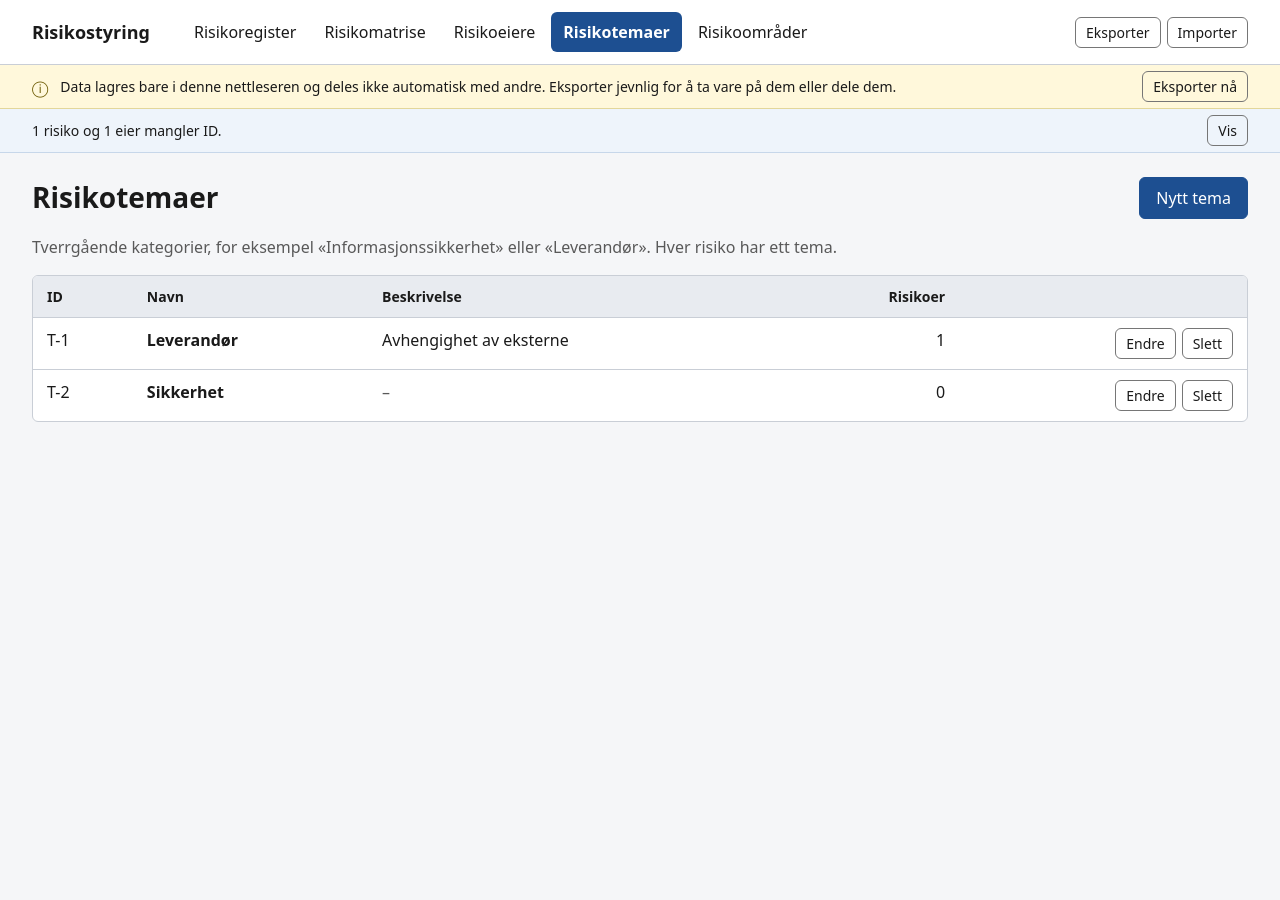
Risikotemaer › endrer element
The image size is (1280, 900).
Expected: the heading "Risikotemaer" is shown, [32,181,218,215]
Step 1. Click the button with aria-label "Endre Sikkerhet" → (1145, 396), box [1115,380,1176,411]
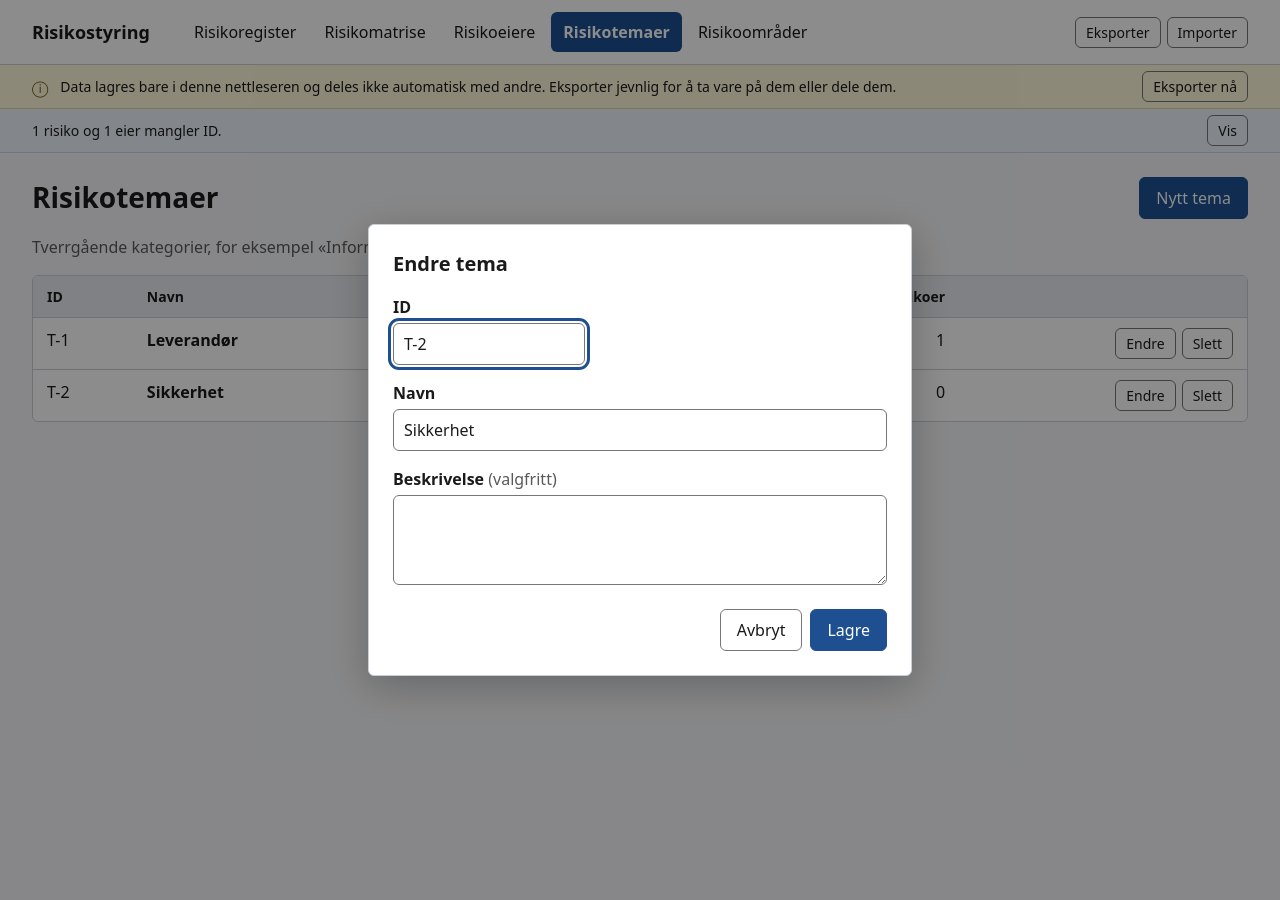
Step 2. Type " – oppdatert" into the text box labelled "Beskrivelse (valgfritt)" → (640, 540), box [393,495,887,585]
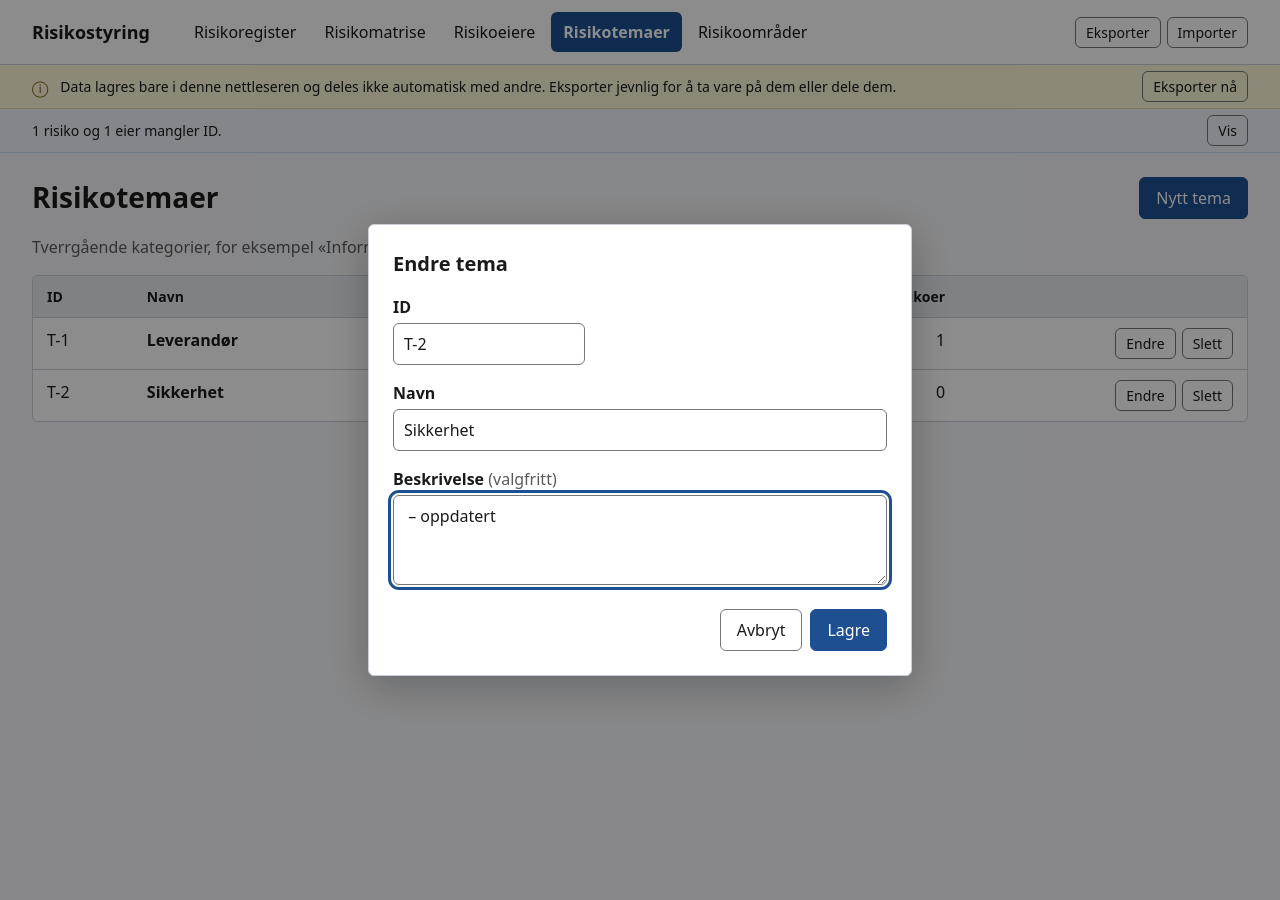
Step 3. Click the button "Lagre" → (849, 630), box [810,609,887,651]
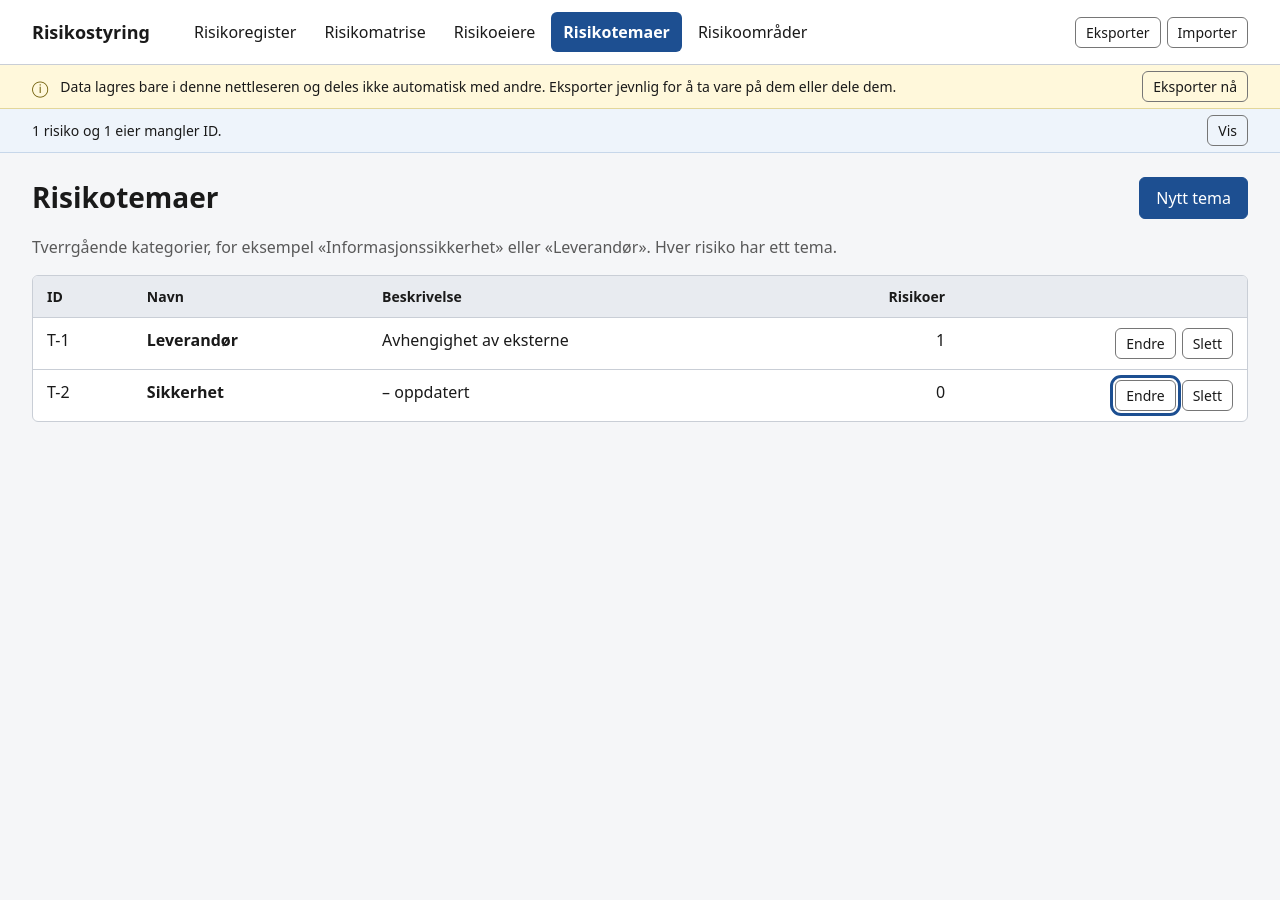
Expected: the text "– oppdatert" is shown, [368,370,792,421]
